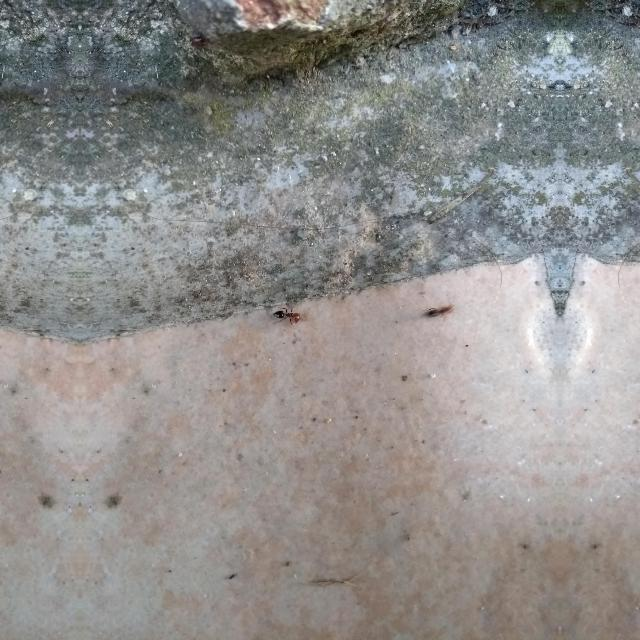Crematogaster: (274, 300, 302, 326)
